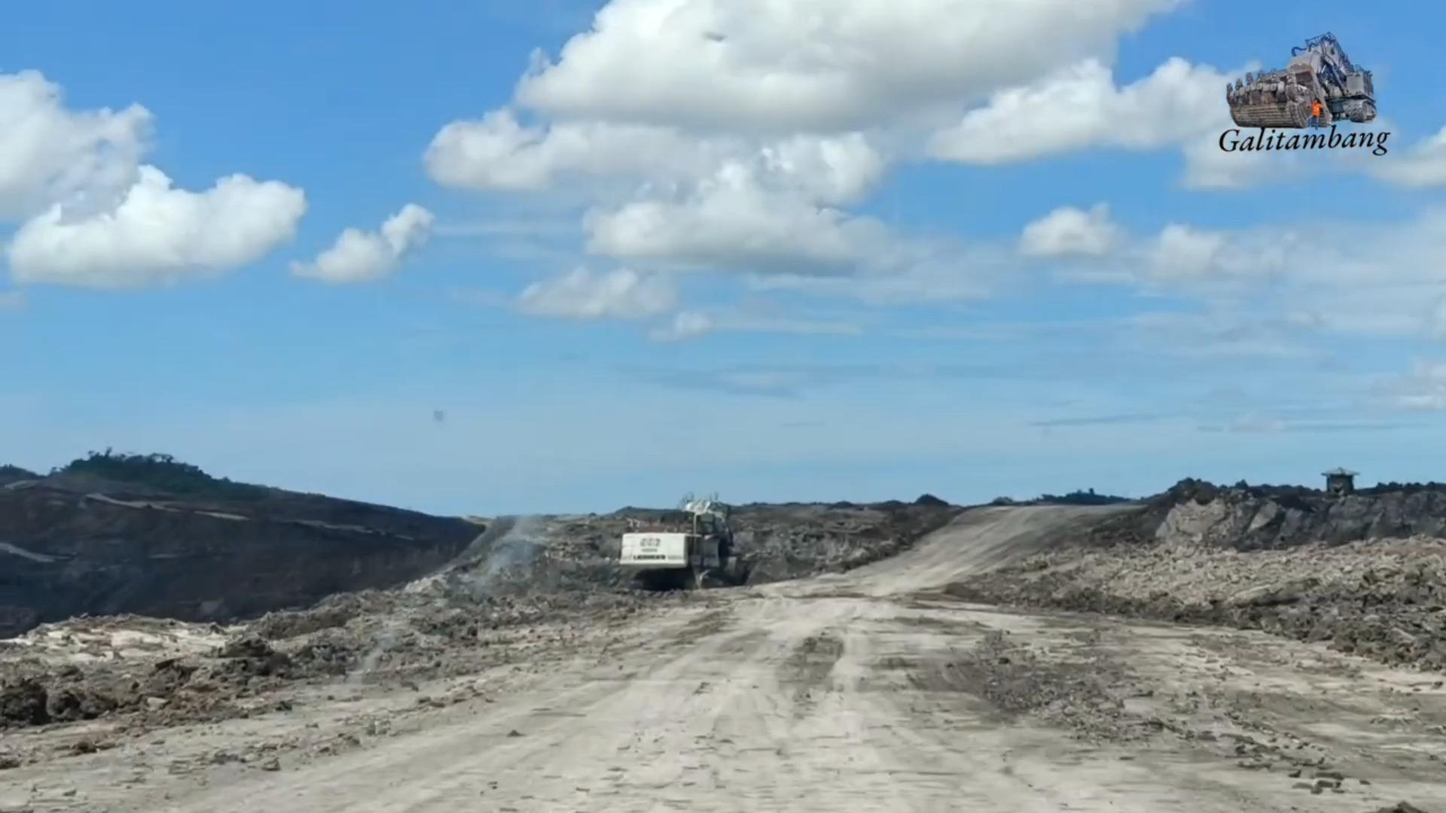Excavator: (618, 498, 740, 589)
